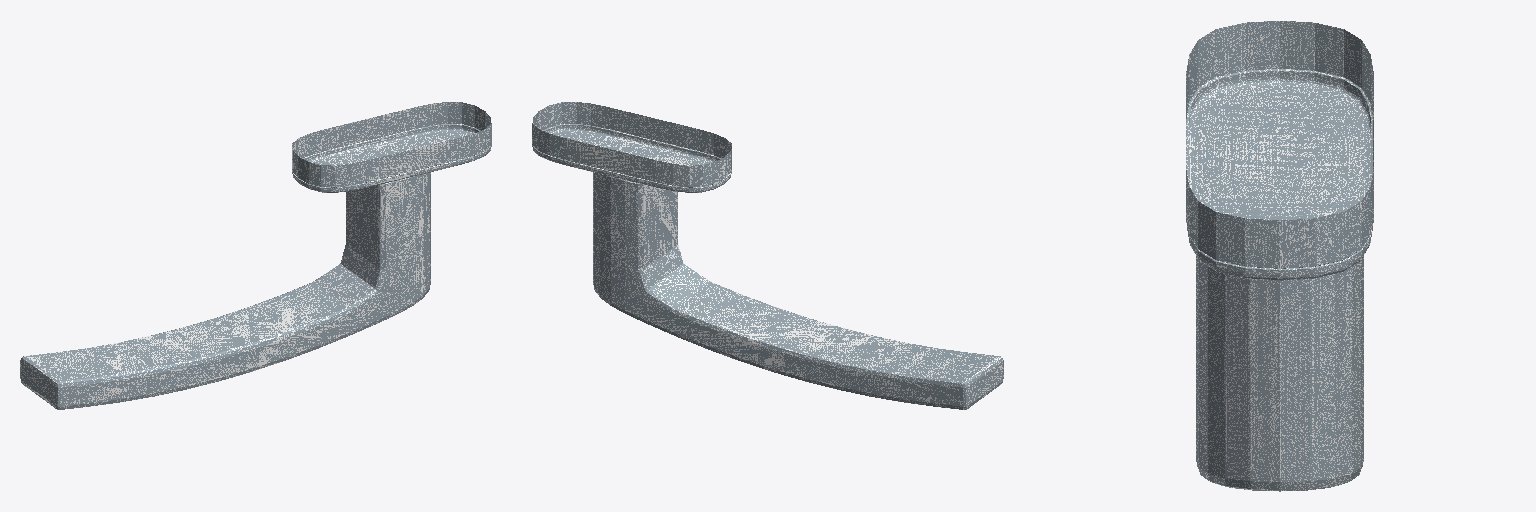
robot.urdf — window:
<?xml version="1.0" ?>
<robot name="window">
	<link name="base"/>
	<link name="link_0">
		<visual name="out-frame">
			<origin xyz="0 0 0"/>
			<geometry>
				<mesh filename="texture_dae/untitled.dae" scale="1 1 1"/>
			</geometry>
		</visual>
		<collision>
			<origin xyz="0 0 0"/>
			<geometry>
				<mesh filename="texture_dae/untitled.dae" scale="1 1 1"/>
			</geometry>
		</collision>
	</link>
	<joint name="joint_0" type="fixed">
		<origin rpy="1.570796326794897 0 -1.570796326794897" xyz="0 0 0"/>
		<child link="link_0"/>
		<parent link="base"/>
	</joint>
	<link name="link_1">
		<visual name="surf-board">
			<origin xyz="0.23565320670604706 -0.34836465252022536 0"/>
			<geometry>
				<mesh filename="texture_dae/untitled1.dae" scale="1 1 1"/>
			</geometry>
		</visual>
		<collision>
			<origin xyz="0.23565320670604706 -0.34836465252022536 0"/>
			<geometry>
				<mesh filename="texture_dae/untitled1.dae" scale="1 1 1"/>
			</geometry>
		</collision>
	</link>
	<joint name="joint_1" type="revolute">
		<origin xyz="-0.23565320670604706 0.34836465252022536 0"/>
		<axis xyz="0 -1 0"/>
		<child link="link_1"/>
		<parent link="link_0"/>
		<limit lower="0" upper="1.5079644737231006"/>
	</joint>
	<link name="link_2">
		<visual name="handle">
			<origin xyz="0 0 0"/>
			<geometry>
				<mesh filename="texture_dae/9969518-handle.dae" scale="0.4452886438767444 0.4452886438767444 0.4452886438767444"/>
			</geometry>
		</visual>
		<collision>
			<origin xyz="0 0 0"/>
			<geometry>
				<mesh filename="texture_dae/9969518-handle.dae" scale="0.4452886438767444 0.4452886438767444 0.4452886438767444"/>
			</geometry>
		</collision>
	</link>
	<joint name="joint_2" type="revolute">
		<origin xyz="0 0 0"/>
		<child link="link_2"/>
		<parent link="link_3"/>
		<axis xyz="0 0 1"/>
		<limit lower="0" upper="1.5079644737231006"/>
	</joint>
	<link name="link_3">
		<visual name="lock">
			<origin xyz="0 0 0"/>
			<geometry>
				<mesh filename="texture_dae/9969518-lock.dae" scale="0.4452886438767444 0.4452886438767444 0.4452886438767444"/>
			</geometry>
		</visual>
		<collision>
			<origin xyz="0 0 0"/>
			<geometry>
				<mesh filename="texture_dae/9969518-lock.dae" scale="0.4452886438767444 0.4452886438767444 0.4452886438767444"/>
			</geometry>
		</collision>
	</link>
	<joint name="joint_3" type="fixed">
		<origin xyz="0.44409596992656586 -0.34836465252022536 0.00917094583565014"/>
		<child link="link_3"/>
		<parent link="link_1"/>
	</joint>
</robot>

--- What the picture shows (computed from the rendered views, not written in the file) ---
Views: 3 orthographic renders of the robot side by side, from view 1: azimuth 30°, elevation 25°; view 2: azimuth 150°, elevation 25°; view 3: azimuth 270°, elevation 25°.
Model window with 5 links and 4 joints (2 revolute, 2 fixed), rooted at base, posed all joints at 0.
Visible links, largest first — view 1: link_2, link_3; view 2: link_2, link_3; view 3: link_2, link_3.
Link boxes in pixels (bbox=[...]): link_2: bbox=[20, 147, 430, 409]; link_3: bbox=[292, 102, 491, 192]; link_2: bbox=[593, 147, 1003, 409]; link_3: bbox=[532, 102, 731, 192]; link_2: bbox=[1196, 168, 1363, 491]; link_3: bbox=[1186, 21, 1373, 280].
Size in the robot's own frame: 0.1725 by 0.0285 by 0.0697 metres.
Meshes: 4 distinct files referenced, 2 mesh visuals loaded (2 Collada DAE); not drawn: 2 (reference not matched to a file when rendering).
